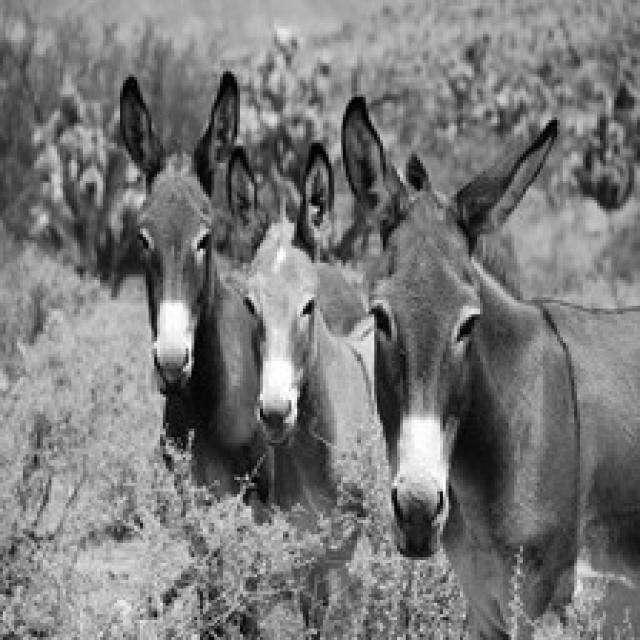Donkey: (337, 94, 637, 637), (115, 69, 272, 637), (223, 140, 377, 637)
